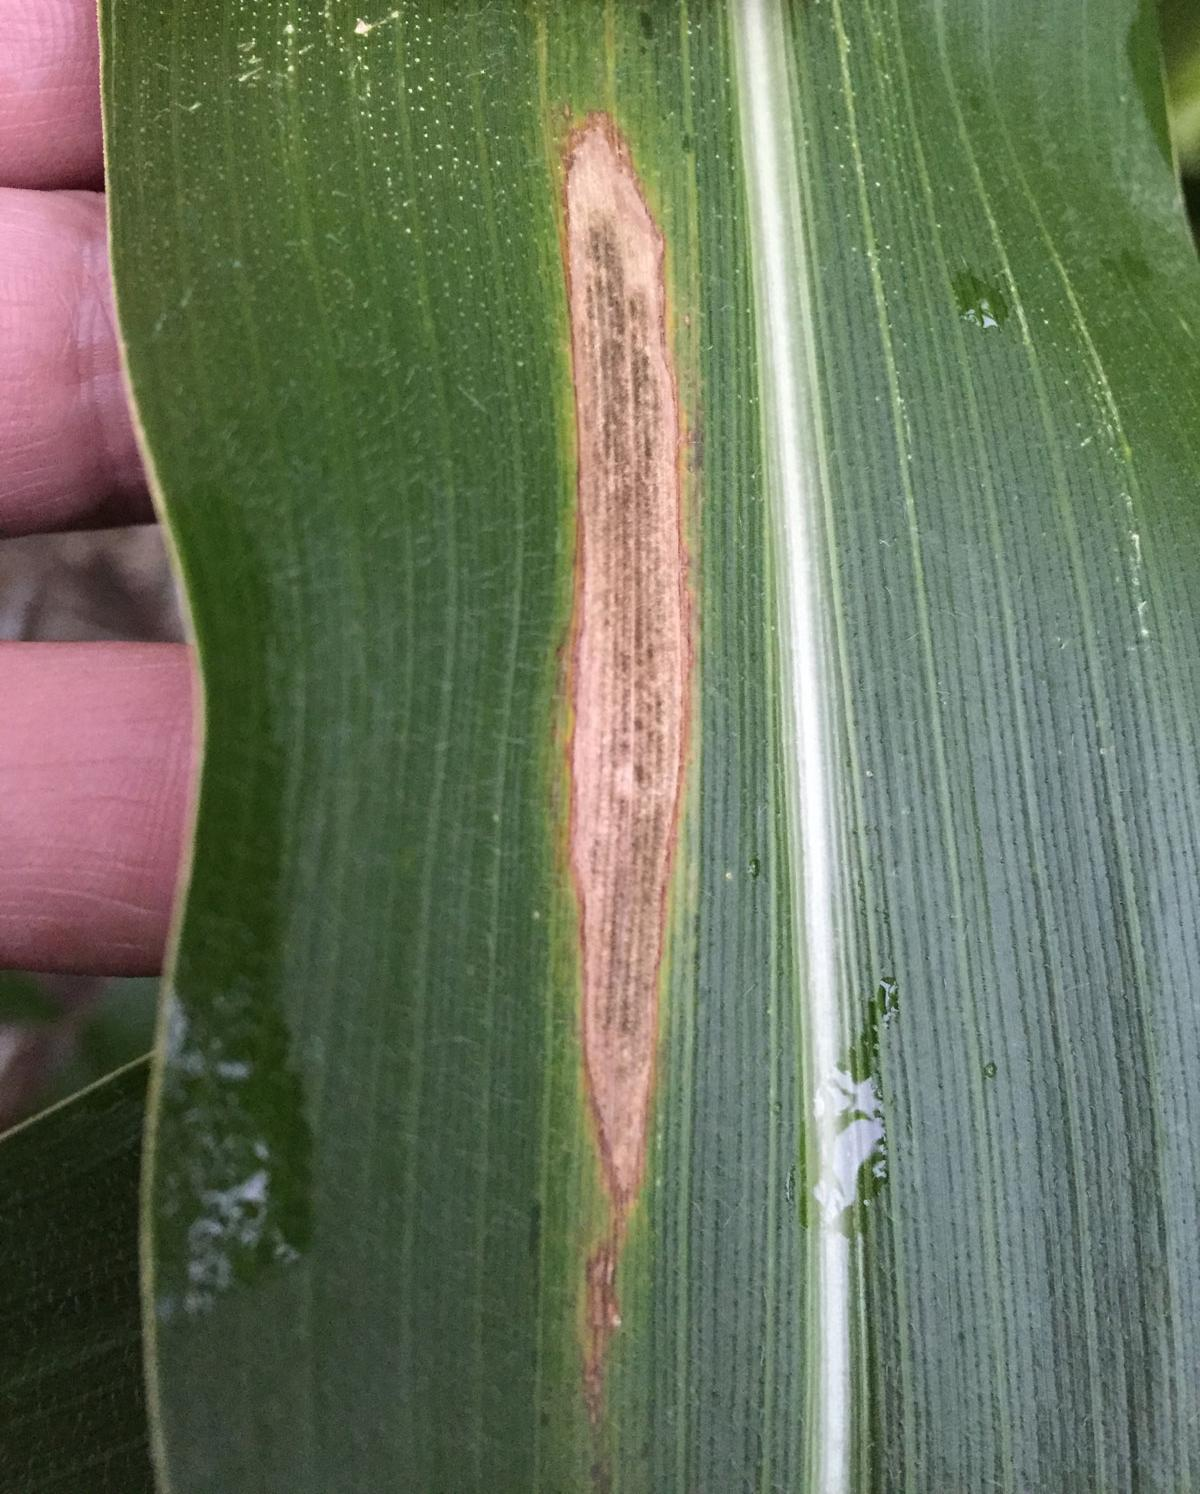Corn leaf blight: (138, 1, 1164, 1494)
